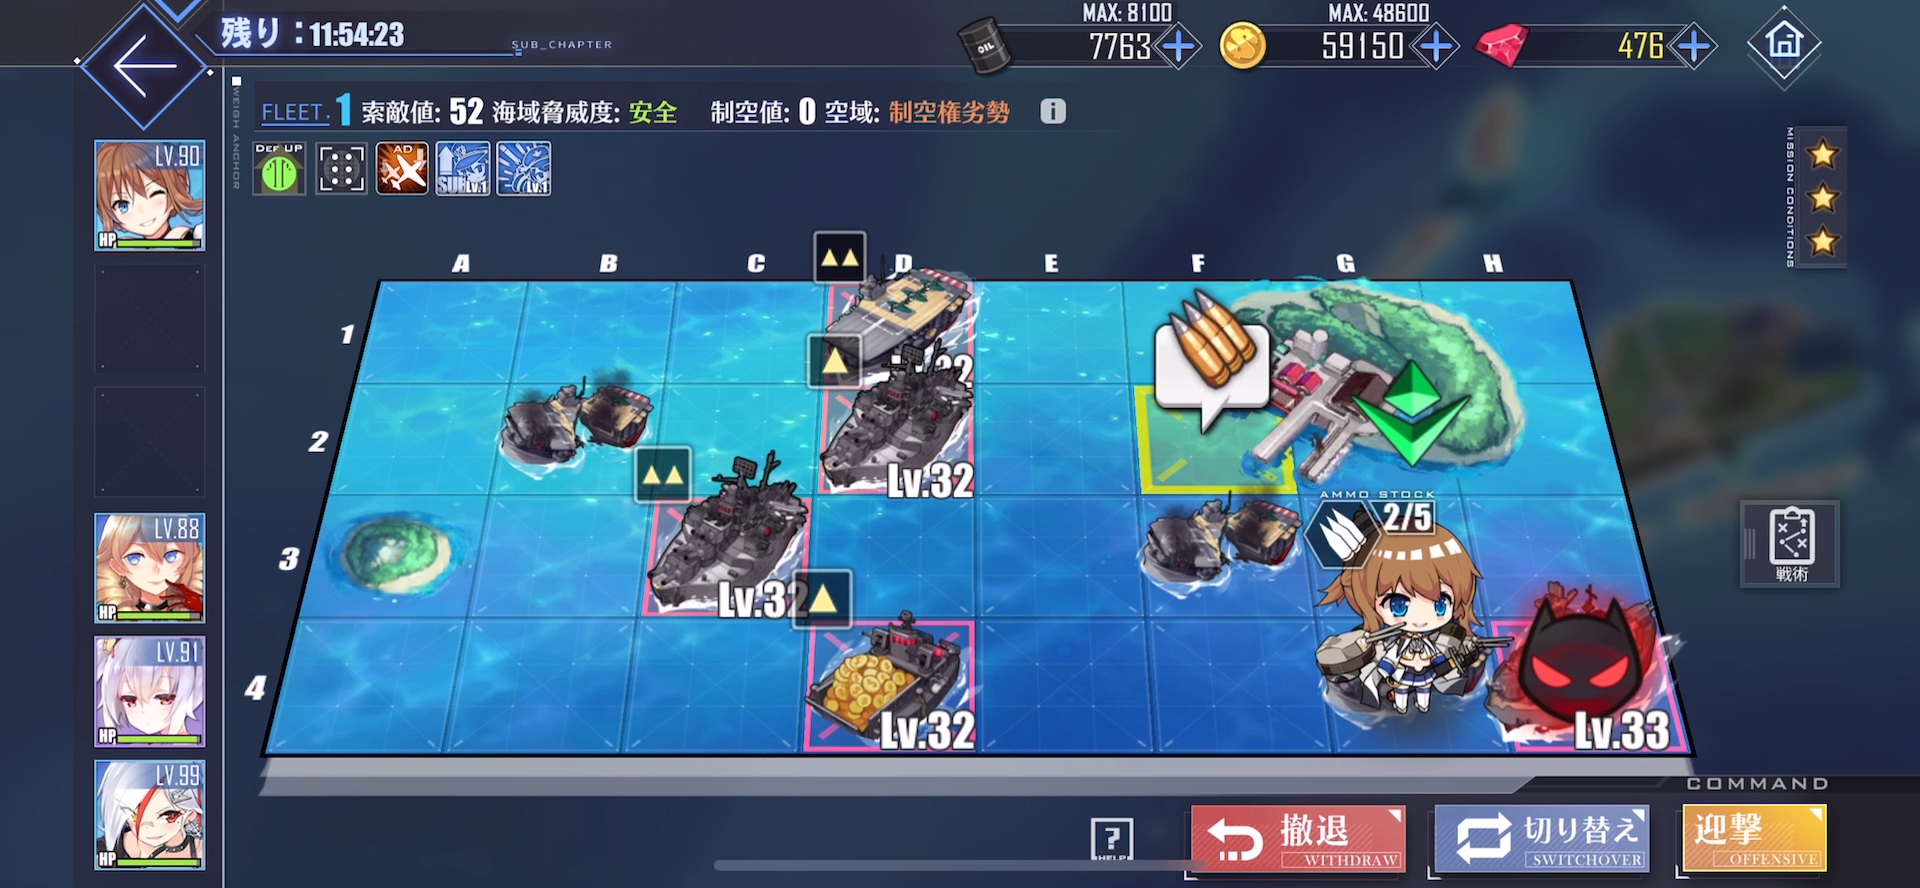boss: (1494, 582, 1673, 746)
lv1: (792, 567, 970, 743), (809, 342, 976, 489)
lv2: (634, 447, 804, 612), (812, 229, 966, 350)
